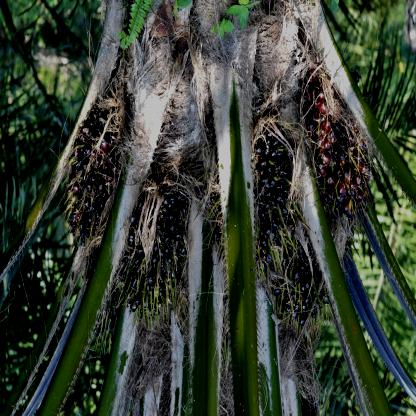1: (62, 104, 134, 250)
palm-oil: (308, 65, 372, 219), (119, 188, 192, 316), (256, 126, 300, 267), (275, 247, 330, 323)
